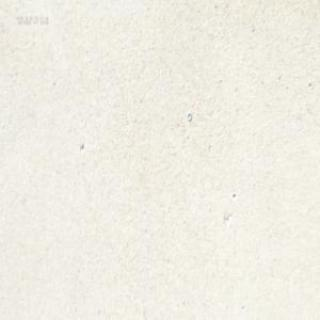Washertrack_idkeyframe: (186, 110, 191, 121)
